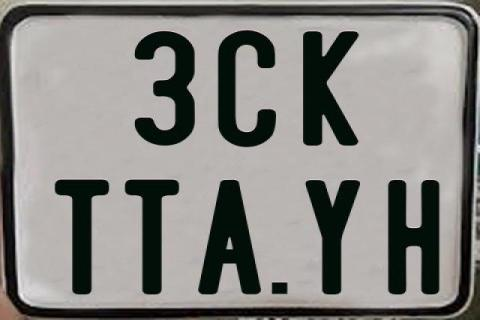0: (132, 29, 192, 145)
A: (197, 178, 263, 294)
C: (218, 31, 282, 151)
H: (389, 179, 446, 293)
K: (303, 31, 363, 149)
T: (124, 177, 183, 297), (55, 179, 112, 296)
Y: (303, 179, 362, 297)
